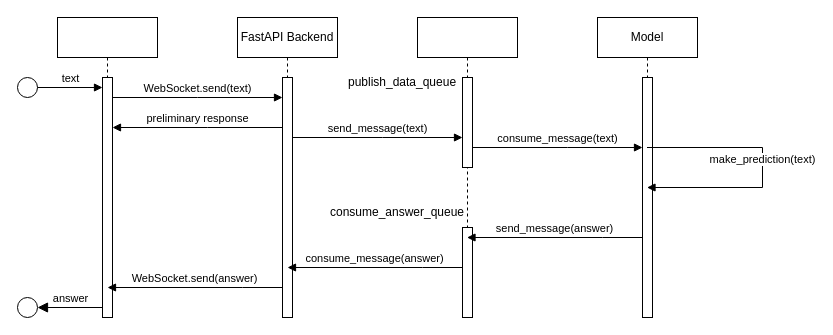
Some shapes in this 833 by 335 pixel diagram are drawn without their labels. The box of each missing label's shape, as (x1, y1, x2, y2) in pixels:
JavaScript Client: (56, 16, 158, 318)
RabbitMQ: (416, 16, 518, 318)
